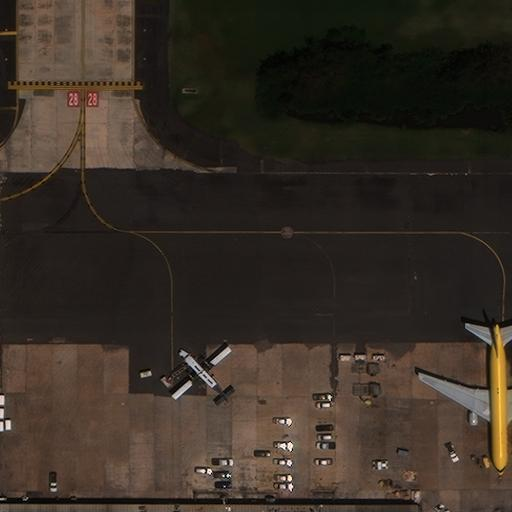Large Civil Transport: (421, 324, 512, 474)
Medium Civil Transport: (171, 346, 229, 404)
